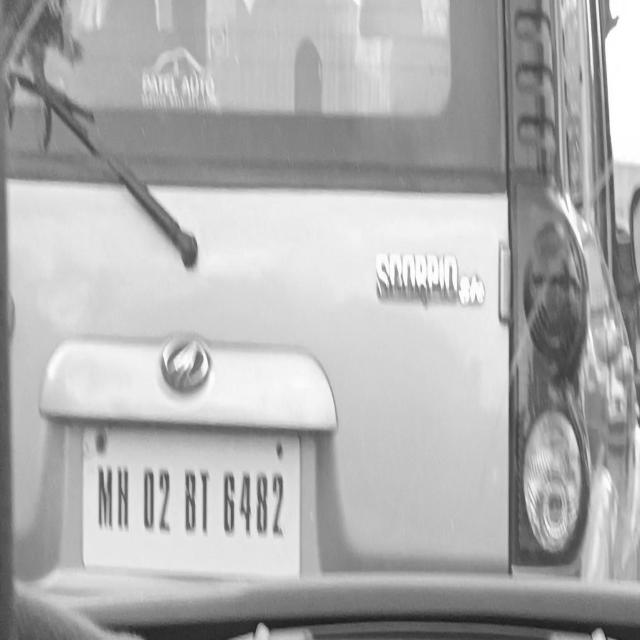license-plate: (86, 426, 298, 580)
